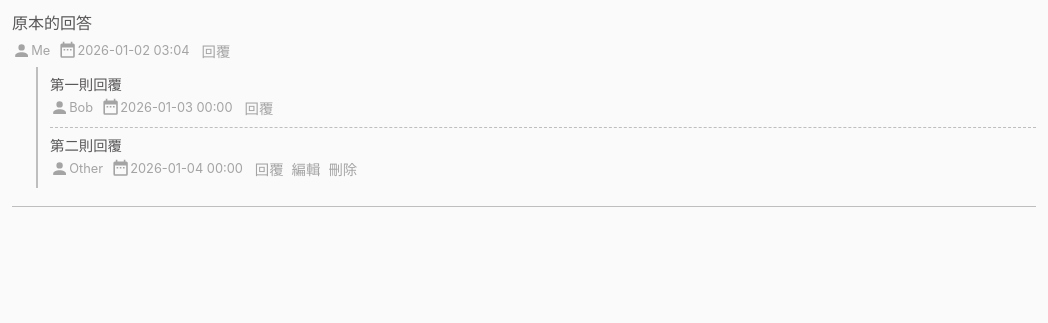
Scenario: AnswerCard › 留言串 › 點擊回答的回覆，在該留言串底下開啟回覆框並聚焦
Click the text "回覆" next to "2026-01-02 03:04": (216, 52) [202,43,230,60]
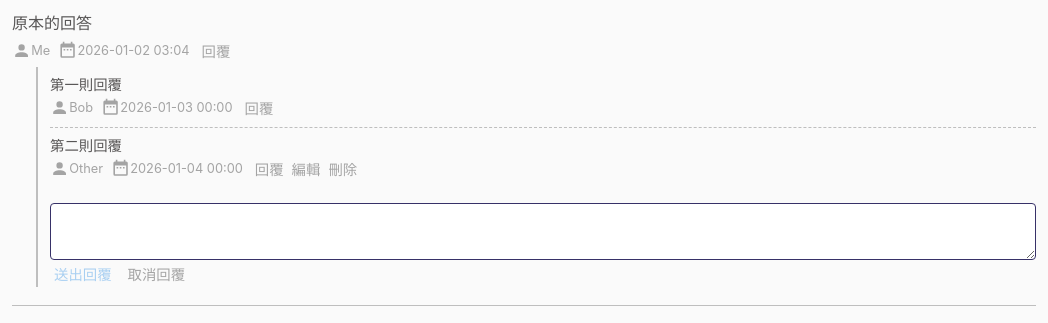
Now the text box named "回覆 Me" is empty, box [50,203,1036,260]
